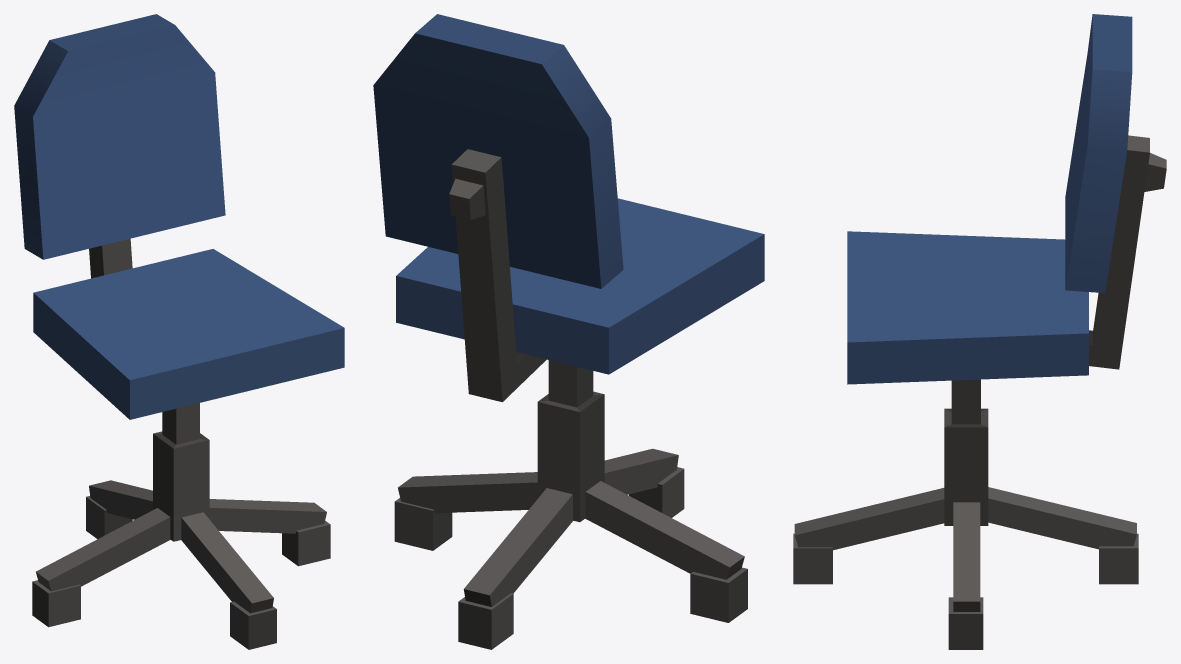
Rendered from SO_Chair02.fbx.
3 renders of one model, left to right at view 1: azimuth 30°, elevation 25°; view 2: azimuth 150°, elevation 25°; view 3: azimuth 270°, elevation 25°, orthographic. The views are drawn at different scales.
Visible parts, largest first — view 1: SO_Chair02; view 2: SO_Chair02; view 3: SO_Chair02.
Boxes of the visible parts, left/top/right/bottom form: SO_Chair02: left=14, top=14, right=344, bottom=649; SO_Chair02: left=373, top=14, right=764, bottom=649; SO_Chair02: left=793, top=14, right=1166, bottom=649.
Bounding box in the file's own units: 1.24 × 2.12 × 1.34.
